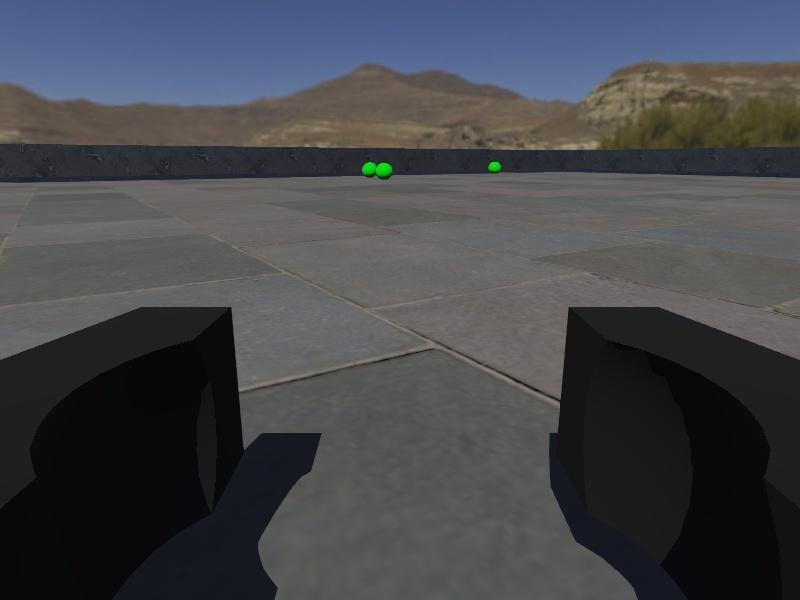green ball: (375, 162, 392, 179), (487, 160, 502, 173)
